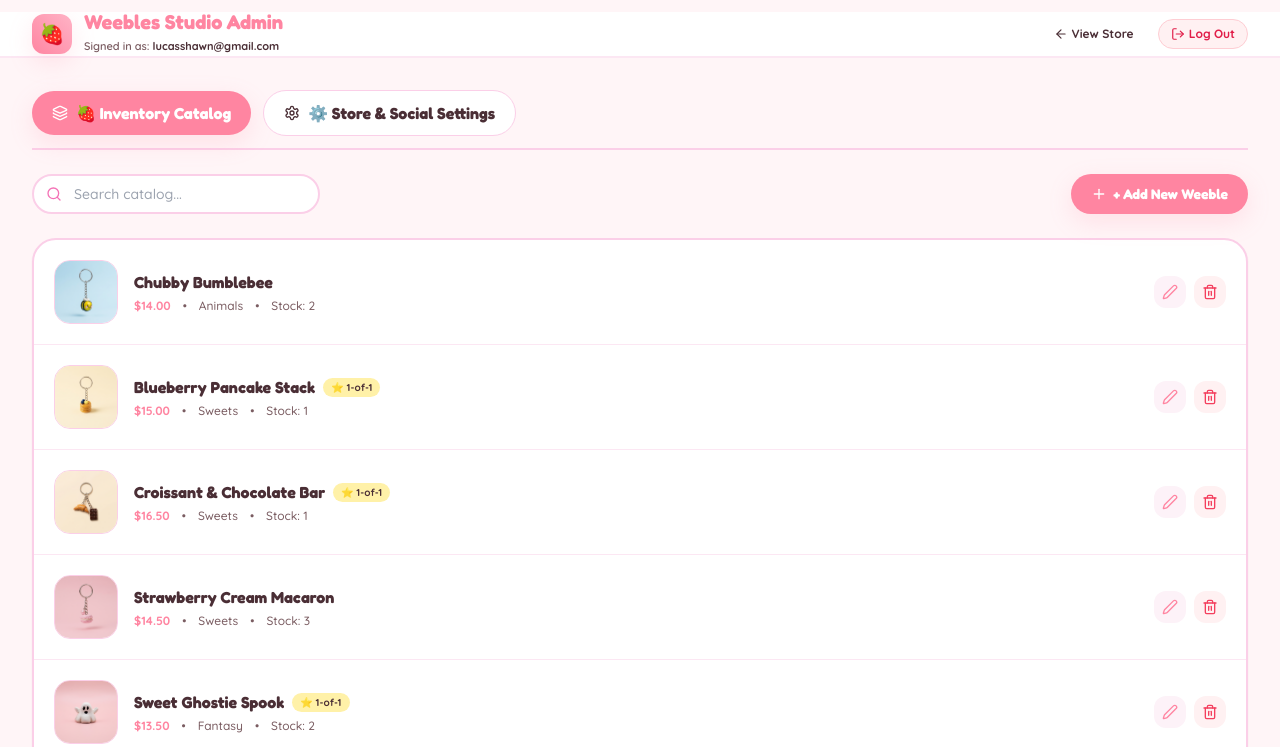
Test: AdminPortal › handles saving inventory and displays notification banner
The width and height of the screenshot is (1280, 747).
# Delete first item
Click the button named "Delete" in the row of "Chubby Bumblebee".
click(1210, 292)  # box 1194,276 -> 1226,308
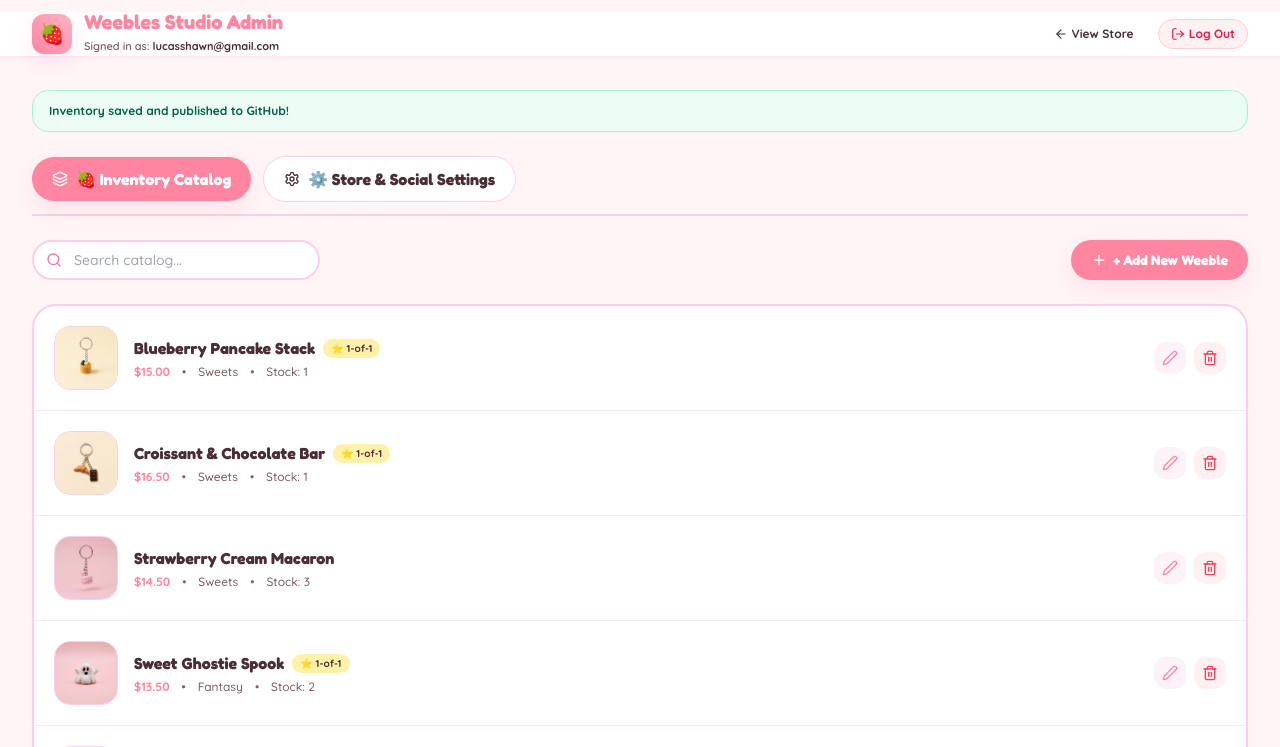
Check: the text "Inventory saved and published to GitHub!" is shown, box 32,90 -> 1248,132
